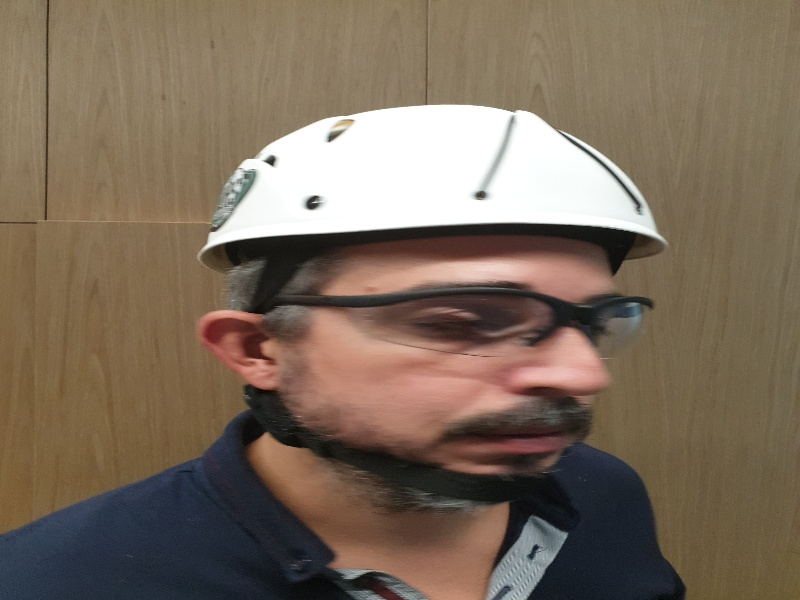Baret: (195, 105, 667, 249)
Gozluk: (261, 284, 652, 362)
